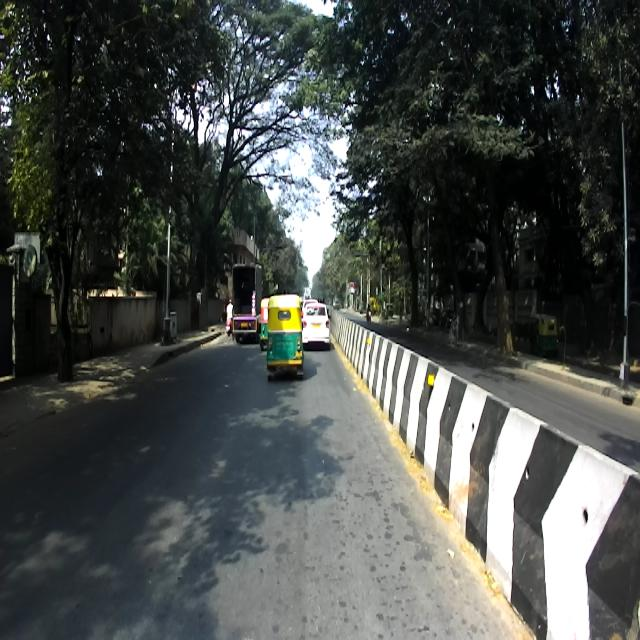auto ahead at: (266, 296, 306, 384)
tree ahead at: (42, 225, 85, 389)
truck ahead at: (228, 255, 264, 344)
